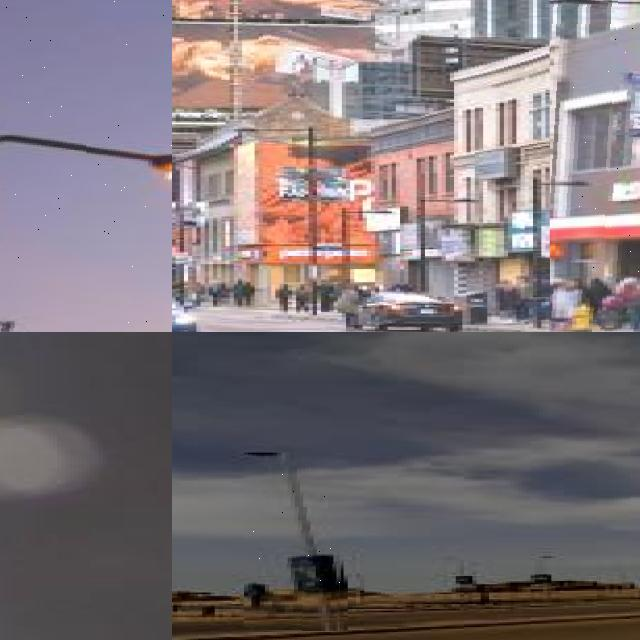street light: (0, 0, 172, 332), (549, 0, 640, 332), (244, 453, 348, 631), (234, 126, 319, 313), (533, 179, 604, 329), (417, 196, 481, 318), (342, 208, 394, 304), (172, 170, 192, 301), (539, 556, 553, 604)
